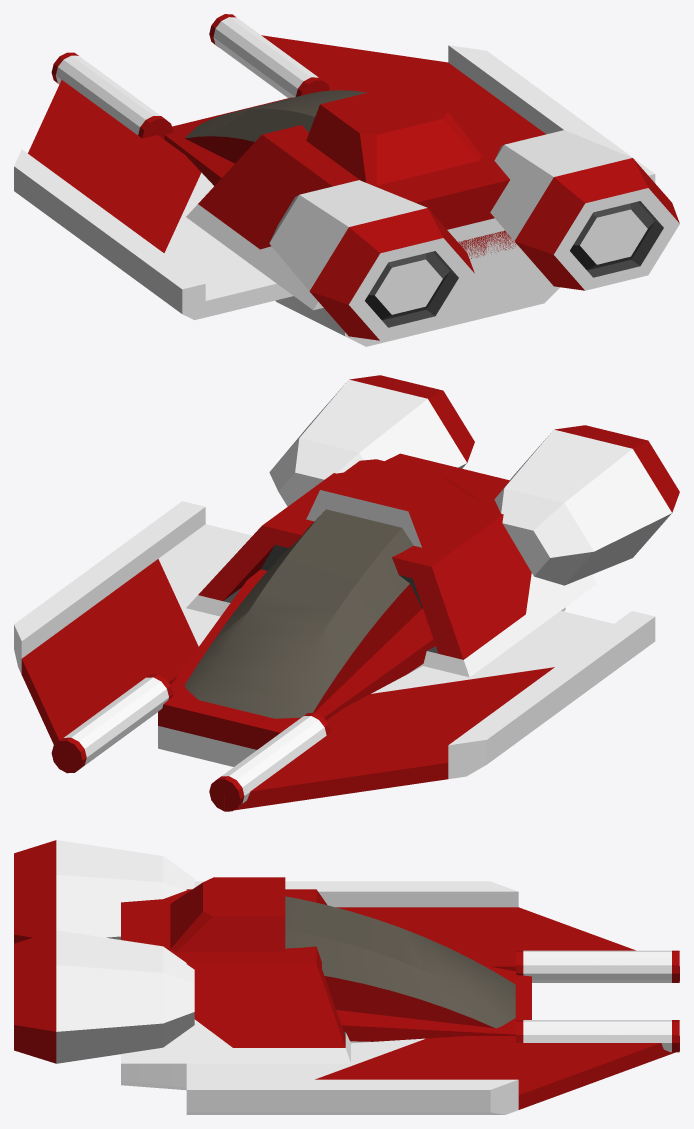
Rendered from MicroFighterRed.fbx.
3 renders of one model, top to bottom at view 1: azimuth 30°, elevation 25°; view 2: azimuth 150°, elevation 25°; view 3: azimuth 270°, elevation 25°, orthographic. The views are drawn at different scales.
Visible parts, largest first — view 1: wind_endLow_6, engine_airplane%_2, engine_airplane%_1, engine_intake_0, wind_endLow_7, ship_cargoFront_5, ship_frontSquare_4, glass_round_3, Cylinder01_8, Cylinder01_9; view 2: wind_endLow_6, glass_round_3, wind_endLow_7, engine_intake_0, engine_airplane%_2, engine_airplane%_1, ship_frontSquare_4, ship_cargoFront_5, Cylinder01_8, Cylinder01_9; view 3: wind_endLow_7, engine_intake_0, engine_airplane%_1, glass_round_3, wind_endLow_6, engine_airplane%_2, ship_cargoFront_5, ship_frontSquare_4, Cylinder01_9, Cylinder01_8.
Part boxes in pixels (x1,y1,x2,y2): wind_endLow_6: [14, 80, 293, 320]; engine_airplane%_2: [269, 180, 474, 340]; engine_airplane%_1: [490, 130, 679, 290]; engine_intake_0: [186, 93, 528, 310]; wind_endLow_7: [261, 35, 655, 182]; ship_cargoFront_5: [306, 83, 482, 185]; ship_frontSquare_4: [164, 97, 559, 346]; glass_round_3: [184, 90, 366, 163]; Cylinder01_8: [209, 14, 330, 97]; Cylinder01_9: [51, 52, 173, 139]; wind_endLow_6: [224, 611, 655, 811]; glass_round_3: [184, 509, 421, 718]; wind_endLow_7: [14, 501, 252, 772]; engine_intake_0: [186, 453, 596, 677]; engine_airplane%_2: [494, 425, 679, 585]; engine_airplane%_1: [269, 375, 474, 506]; ship_frontSquare_4: [158, 569, 565, 766]; ship_cargoFront_5: [306, 459, 482, 547]; Cylinder01_8: [51, 674, 173, 773]; Cylinder01_9: [209, 713, 330, 811]; wind_endLow_7: [186, 1036, 679, 1114]; engine_intake_0: [121, 889, 350, 1063]; engine_airplane%_1: [14, 930, 194, 1063]; glass_round_3: [285, 896, 515, 1028]; wind_endLow_6: [194, 881, 679, 980]; engine_airplane%_2: [14, 840, 194, 943]; ship_cargoFront_5: [170, 877, 285, 952]; ship_frontSquare_4: [121, 965, 531, 1090]; Cylinder01_9: [516, 950, 679, 982]; Cylinder01_8: [516, 1020, 679, 1052].
Bounding box in the file's own units: 30 × 10 × 40.5.
